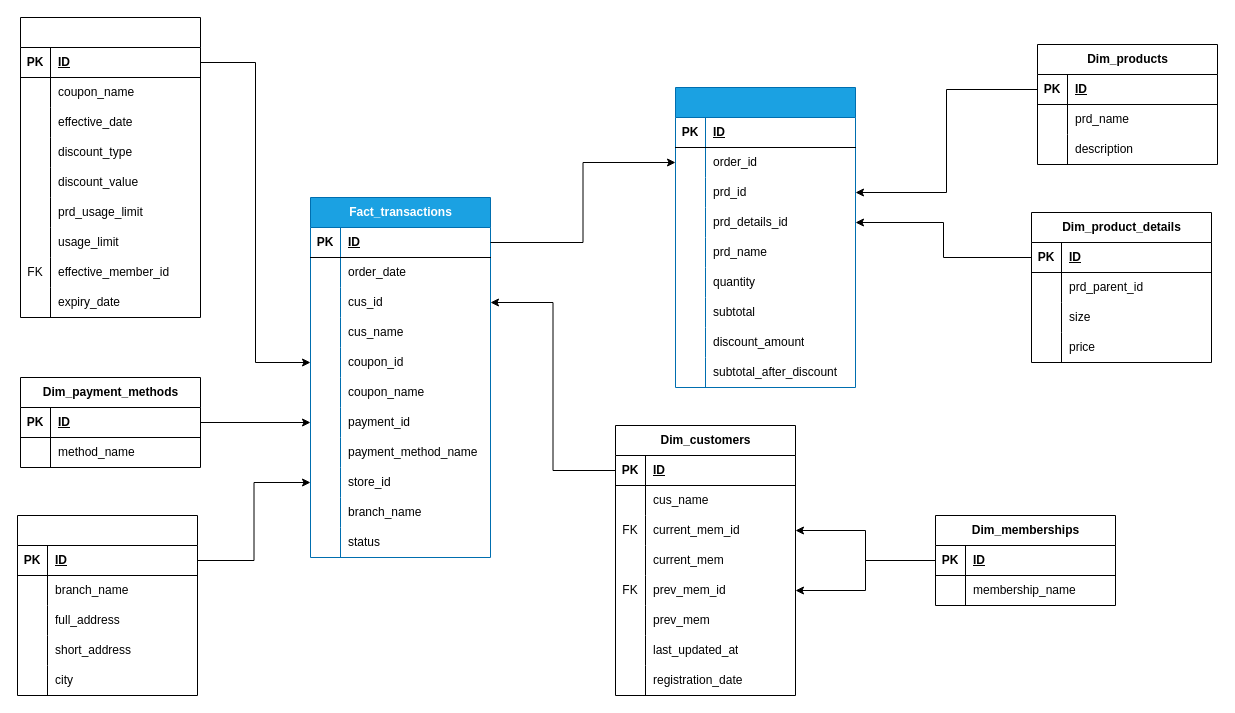
The diagram is 1235 pixels wide and 713 high, and some of its shapes have lost their labels. Each missing label, with the box of its shape:
Dim_coupons: (20, 16, 200, 318)
Dim_Store_geolocations: (16, 514, 198, 696)
Fact_transaction_details: (674, 86, 856, 388)
